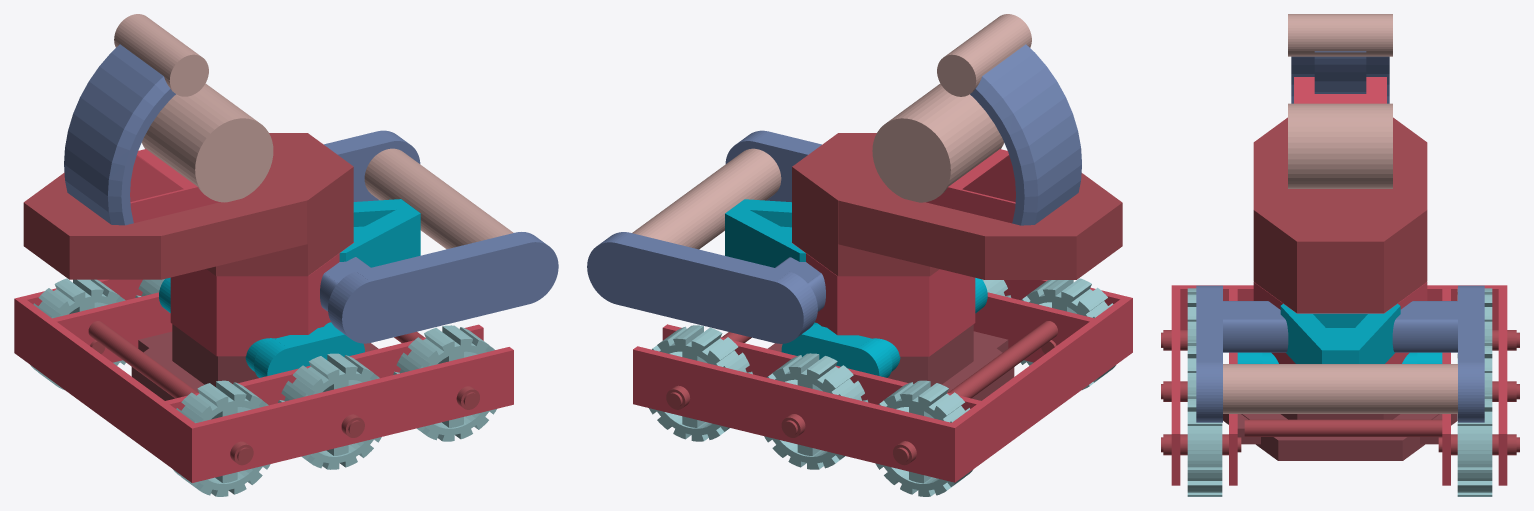
The model's file is bot-tank-red-shooter.glb.
The picture shows the model from 3 angles, left to right: view 1: azimuth 30°, elevation 25°; view 2: azimuth 150°, elevation 25°; view 3: azimuth 270°, elevation 25°; orthographic projection. The views are drawn at different scales.
Visible parts, largest first — view 1: Mesh_Mesh_head_geo.001_lambert2SG.001; view 2: Mesh_Mesh_head_geo.001_lambert2SG.001; view 3: Mesh_Mesh_head_geo.001_lambert2SG.001.
Part boxes in pixels (x1,y1,x2,y2): Mesh_Mesh_head_geo.001_lambert2SG.001: [14, 14, 558, 496]; Mesh_Mesh_head_geo.001_lambert2SG.001: [587, 14, 1132, 496]; Mesh_Mesh_head_geo.001_lambert2SG.001: [1161, 14, 1519, 496].
Bounding box in the file's own units: 0.0312 × 0.0273 × 0.0236.
